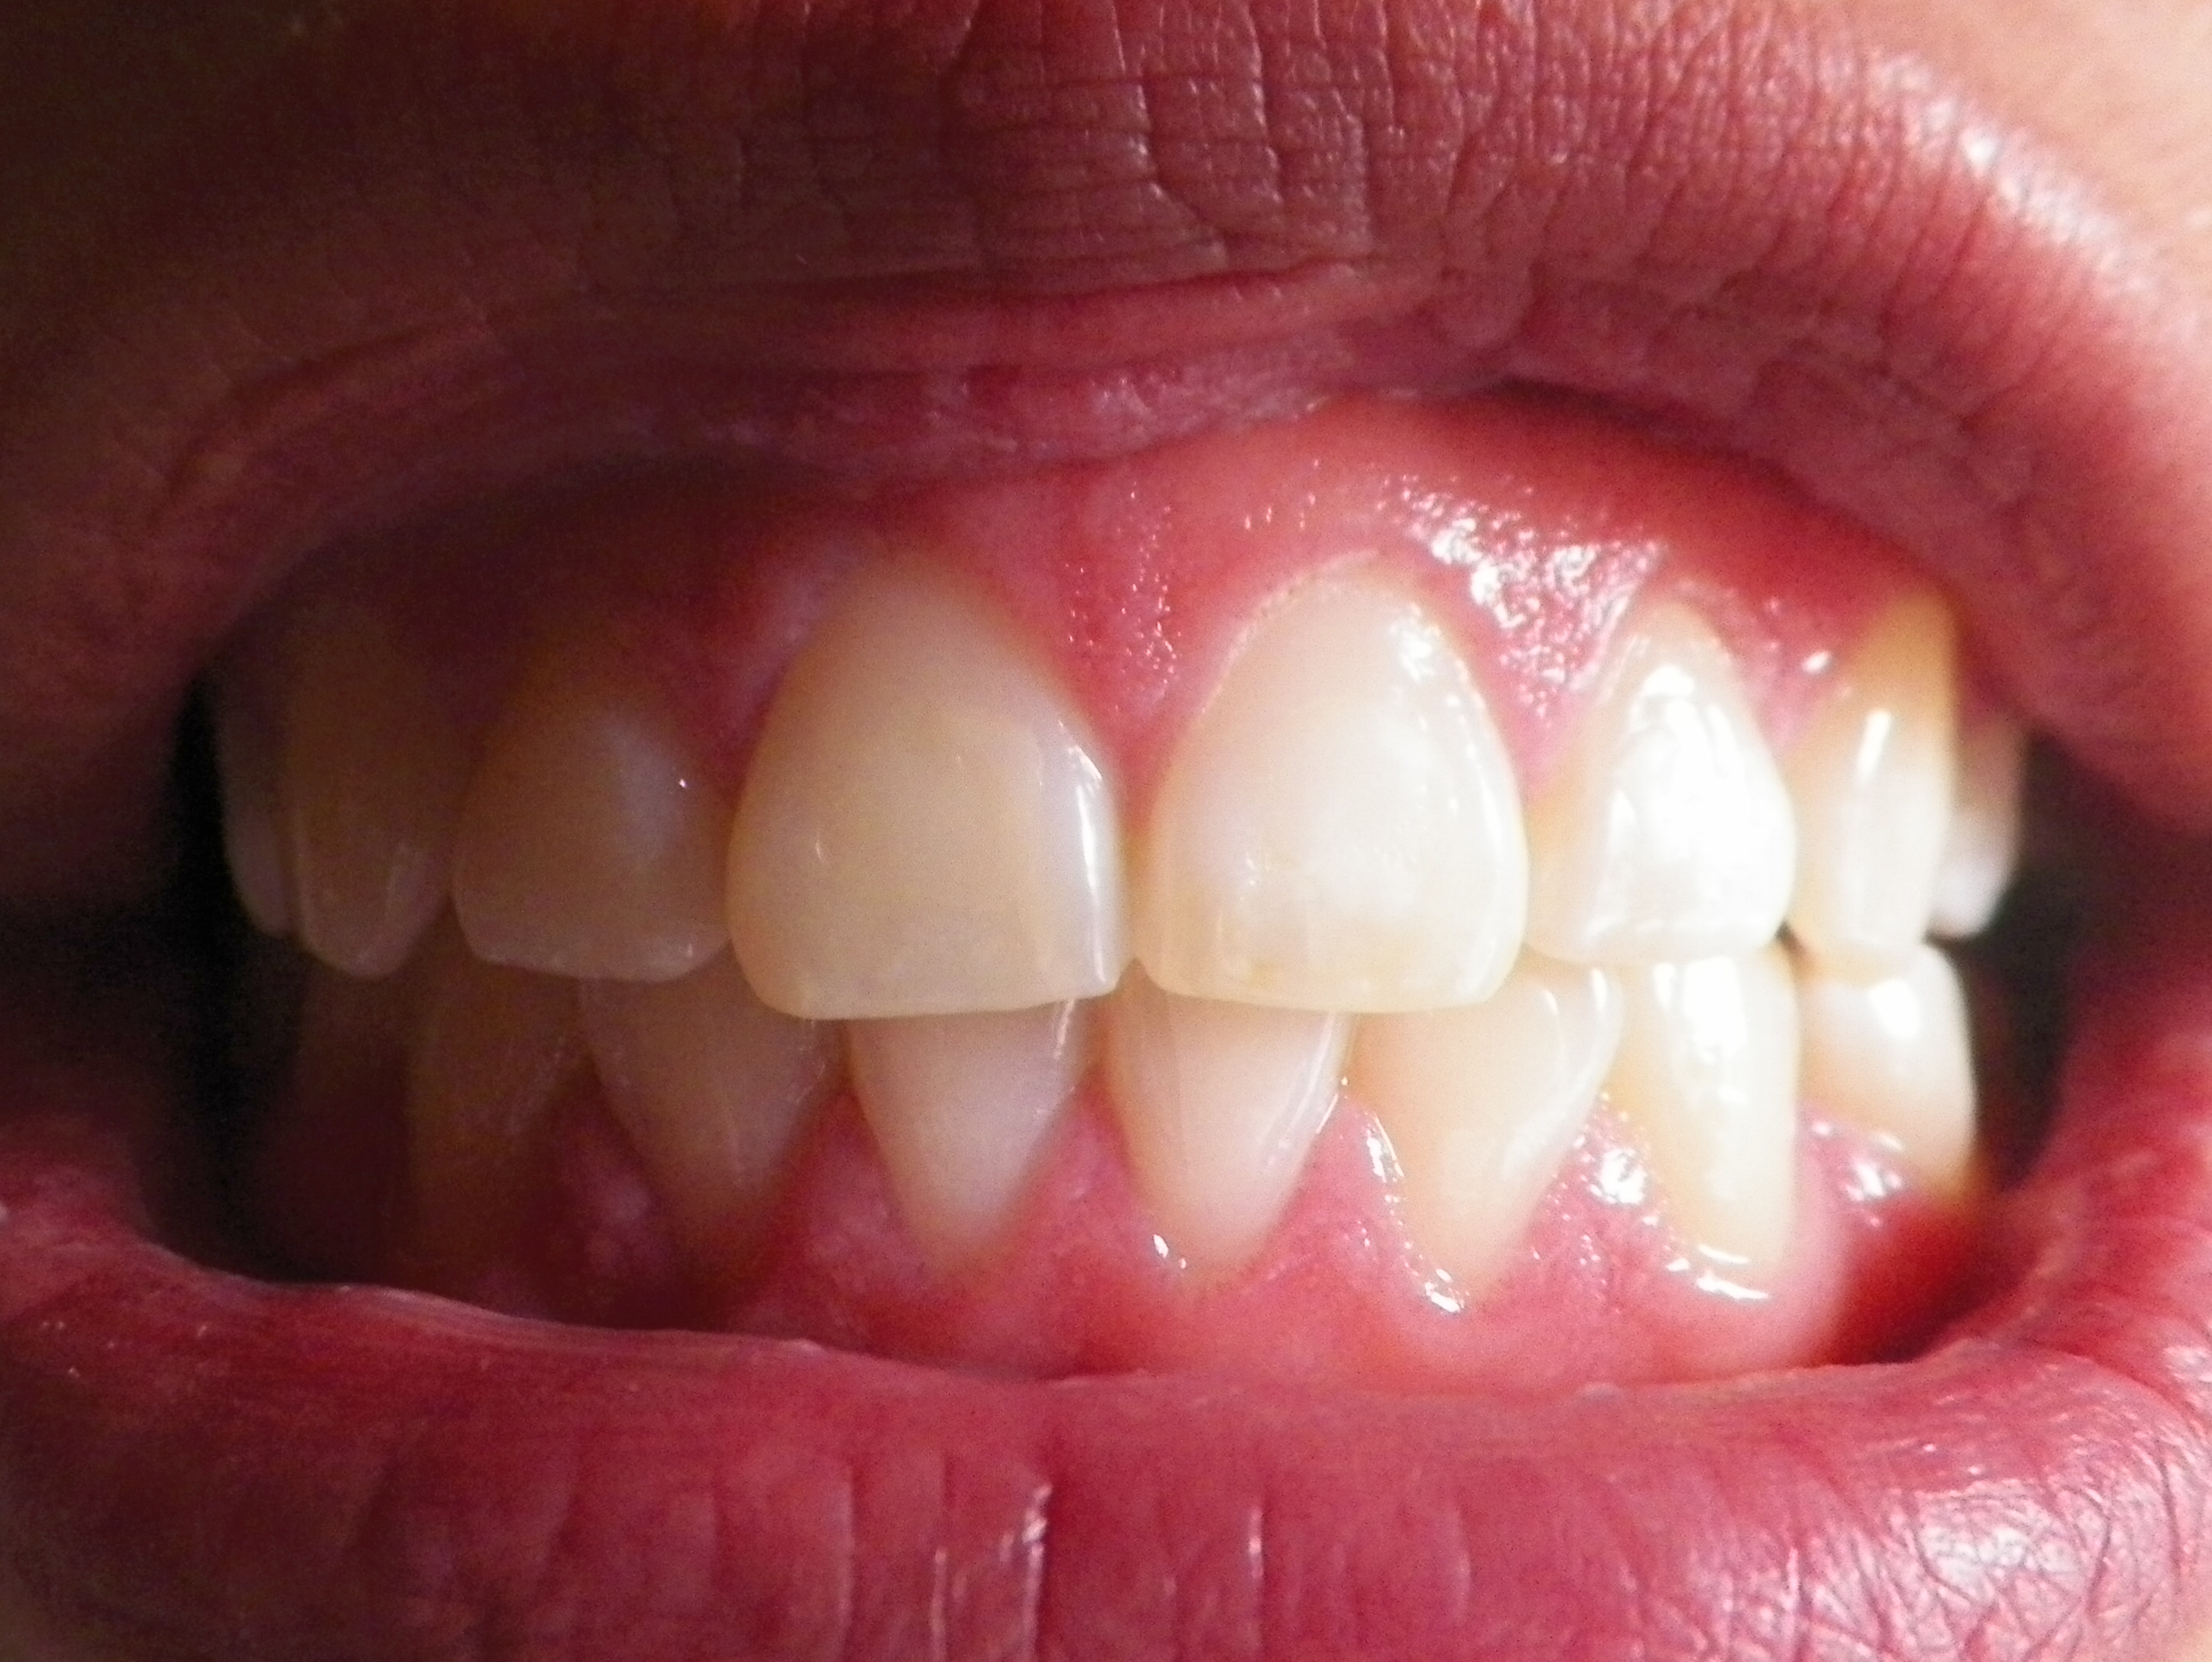boca: (0, 5, 2212, 1632)
